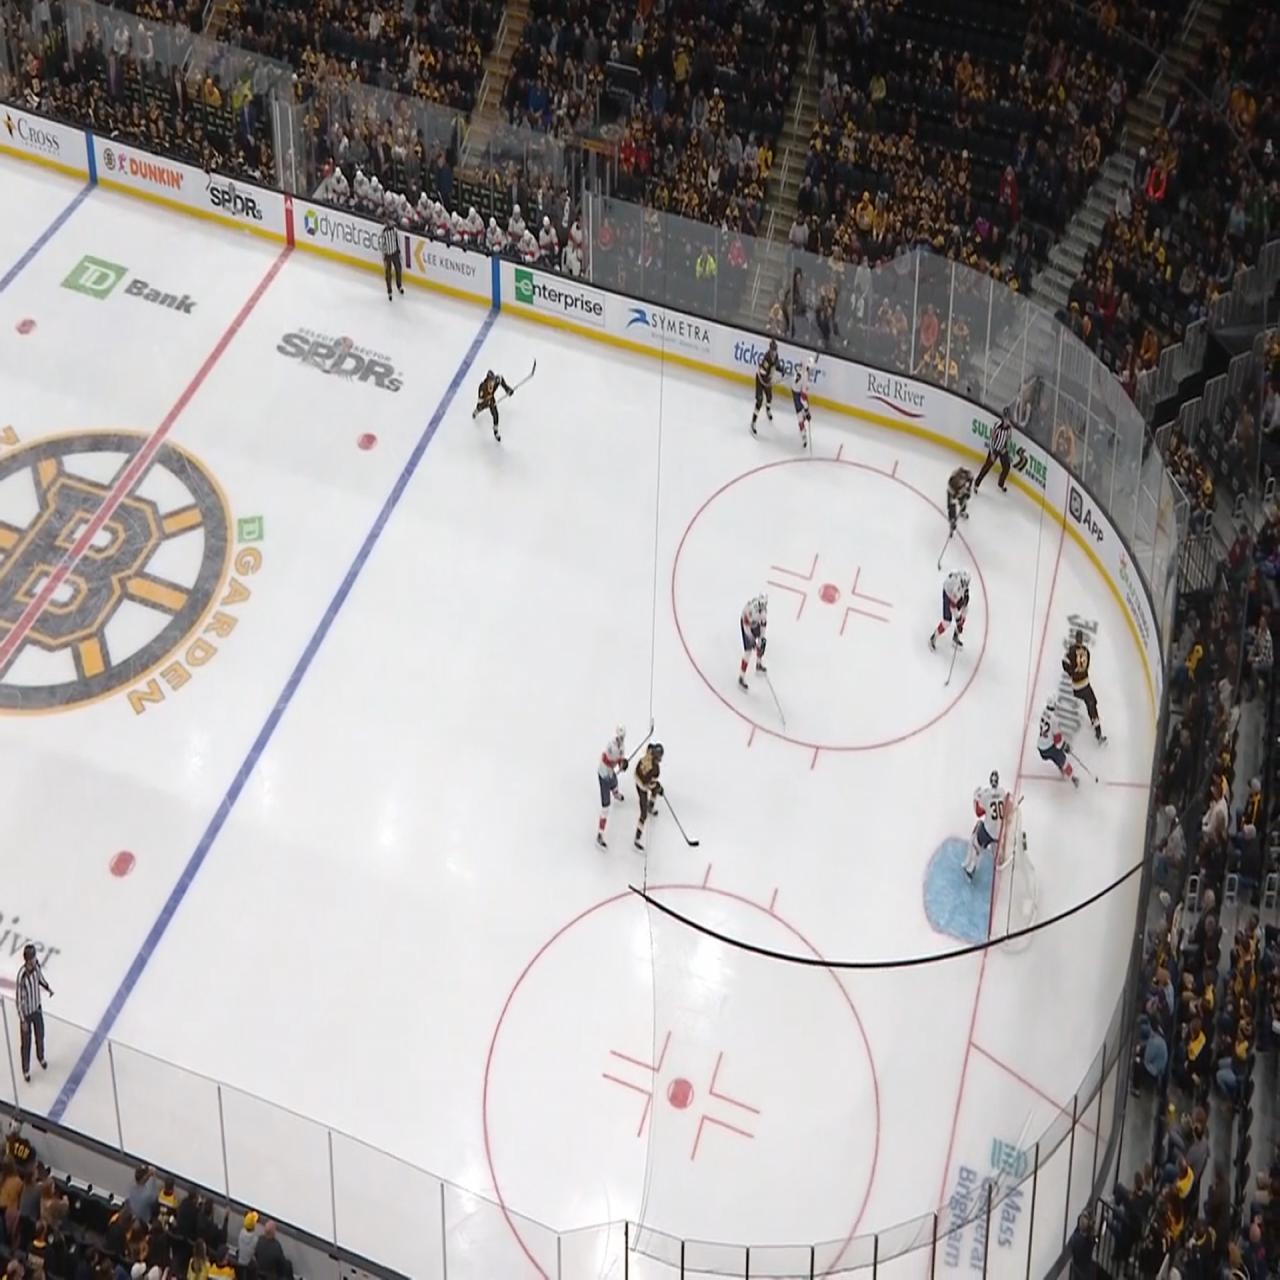Ad: (944, 1126, 1033, 1279), (61, 237, 197, 324), (278, 322, 403, 400), (971, 410, 1050, 498), (512, 261, 605, 332), (734, 333, 825, 397), (627, 292, 709, 361), (304, 199, 386, 263), (402, 227, 477, 297), (116, 143, 184, 205), (1121, 539, 1152, 665), (2, 103, 60, 171), (865, 366, 927, 427), (210, 172, 265, 232), (1069, 482, 1103, 554)
